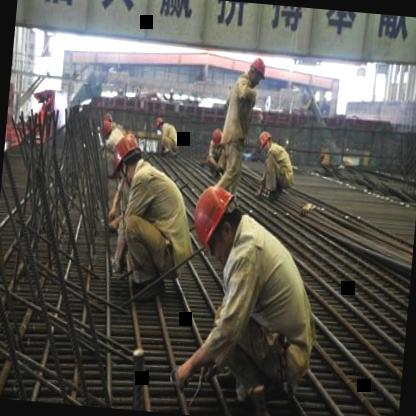helmet: (186, 180, 246, 264), (110, 129, 145, 188), (246, 53, 269, 89), (254, 128, 276, 154), (210, 124, 226, 150), (97, 118, 114, 140), (152, 114, 168, 131)
